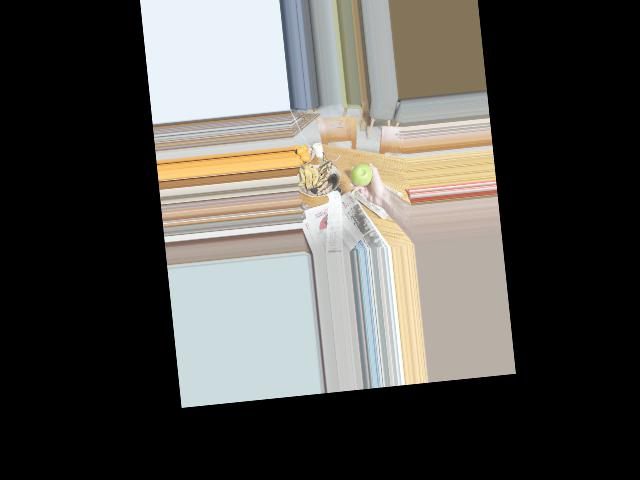apple: (351, 161, 375, 187)
